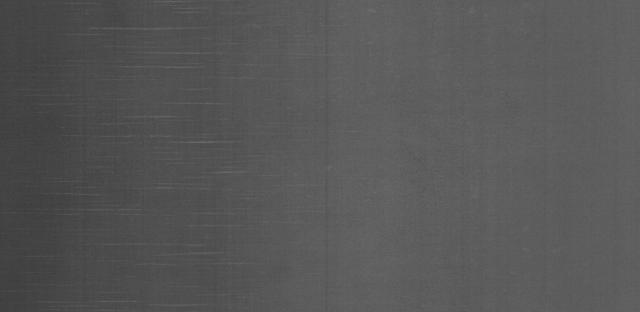waist_folding: (42, 26, 309, 292)
